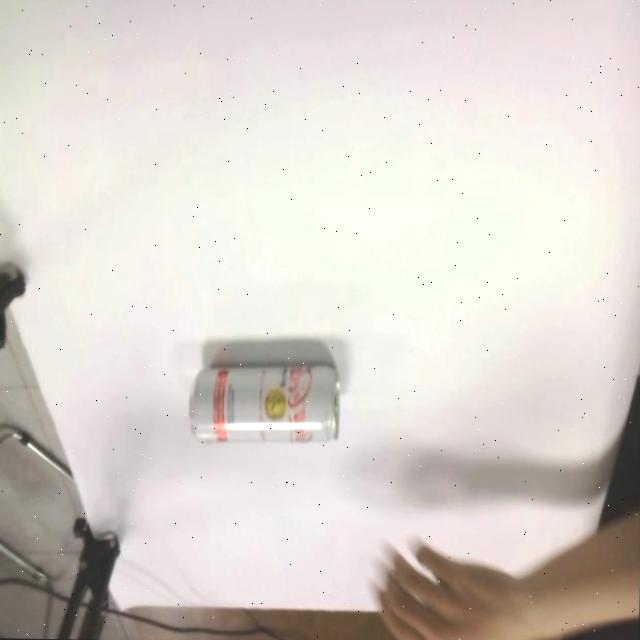debris: (187, 356, 341, 448)
